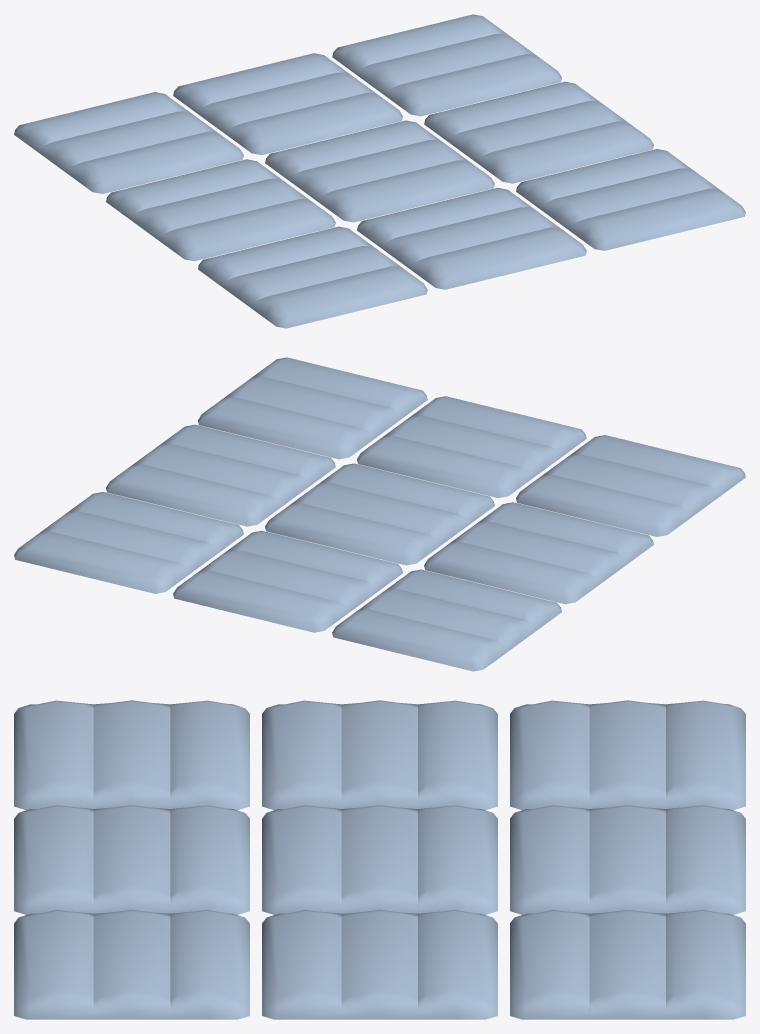
Rendered from field_winter.glb.
The picture shows the model from 3 angles, top to bottom: view 1: azimuth 30°, elevation 25°; view 2: azimuth 150°, elevation 25°; view 3: azimuth 270°, elevation 25°; orthographic projection. The views are drawn at different scales.
Visible parts, largest first — view 1: grass; view 2: grass; view 3: grass.
Part boxes in pixels (bbox=[...]): grass: bbox=[14, 14, 745, 328]; grass: bbox=[14, 357, 745, 671]; grass: bbox=[14, 700, 745, 1019].
Size of the model in its own units: 6.2 by 0.1804 by 6.2.
1 material, 1 textured.
